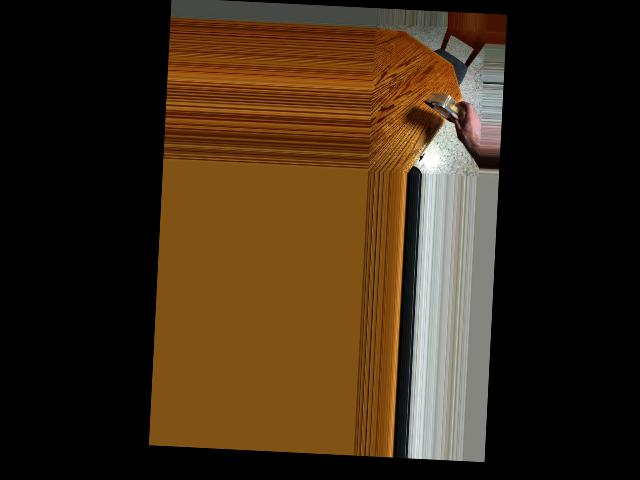cheese: (431, 80, 477, 140)
